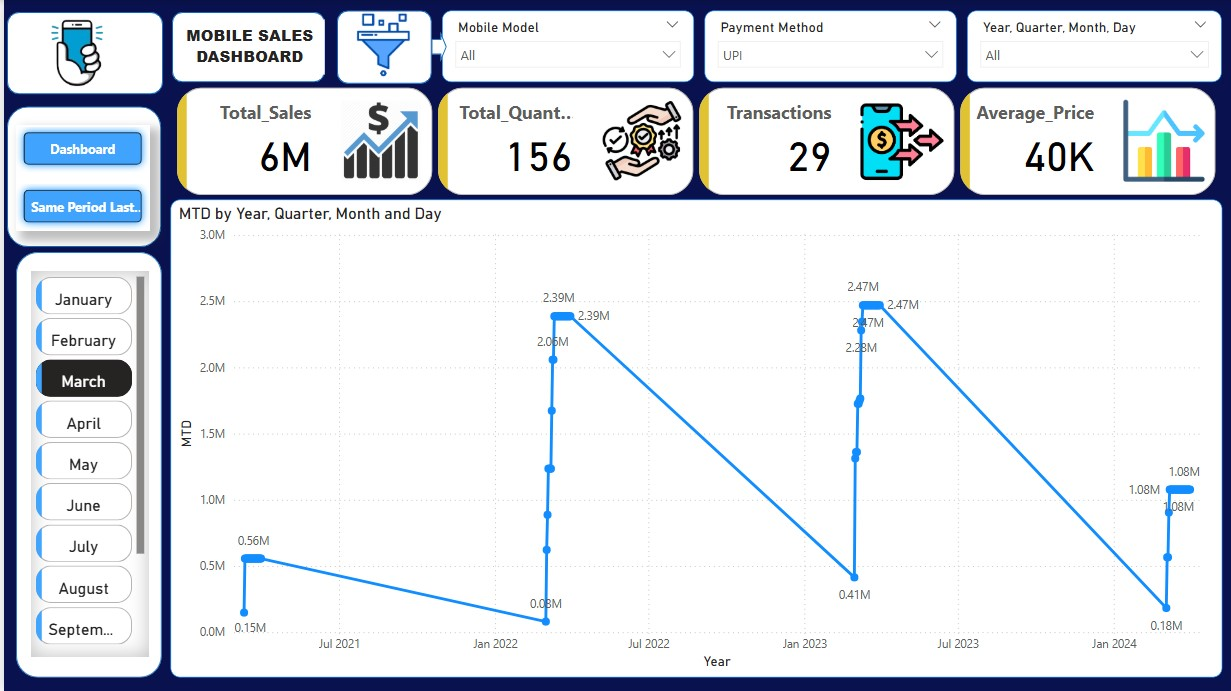

The dashboard page shown, as its layout file describes it:
{"tool":"powerbi","page":{"name":"MTD Report","canvas":[1280,720],"ordinal":1},"visuals":[{"type":"shape","box":[3.6,12.5,162.5,85.7],"z":0},{"type":"image","box":[14.3,7.1,123.2,91.1],"z":1000},{"type":"shape","box":[3.6,110.7,160.7,146.4],"z":2000},{"type":"slicer","fields":{"Values":["Mobile_Sales_Data.Mobile Model"]},"box":[456.5,11.1,262.5,74.8],"z":4000},{"type":"slicer","fields":{"Values":["Mobile_Sales_Data.Payment Method"]},"box":[730.1,11.1,262.5,74.8],"z":5000},{"type":"slicer","fields":{"Values":["Custom_Calendar.Date.Variation.Date Hierarchy.Year","Custom_Calendar.Date.Variation.Date Hierarchy.Quarter","Custom_Calendar.Date.Variation.Date Hierarchy.Month","Custom_Calendar.Date.Variation.Date Hierarchy.Day"]},"box":[1003.7,11.1,265.6,74.8],"z":6000},{"type":"shape","box":[346.8,11.1,98.6,76.3],"z":7000},{"type":"image","box":[211.6,8,369,77.9],"z":8000},{"type":"shape","box":[445.4,33.4,15.9,31.8],"z":9000},{"type":"shape","box":[175,12.7,159.1,73.2],"z":10000},{"type":"textbox","box":[178.1,20.7,155.9,57.3],"z":11000},{"type":"lineChart","fields":{"Y":["Mobile_Sales_Data.MTD"],"Category":["Custom_Calendar.Date.Variation.Date Hierarchy.Year","Custom_Calendar.Date.Variation.Date Hierarchy.Quarter","Custom_Calendar.Date.Variation.Date Hierarchy.Month","Custom_Calendar.Date.Variation.Date Hierarchy.Day"]},"box":[174.2,208.6,1095.7,498.2],"z":12000},{"type":"shape","box":[12.2,263.3,151.9,443.5],"z":13000},{"type":"advancedSlicerVisual","fields":{"Values":["Custom_Calendar.Date.Variation.Date Hierarchy.Month"]},"box":[28.4,283.5,123.5,401],"z":14000},{"type":"pageNavigator","box":[12.7,130.4,140,111.3],"z":15000},{"type":"cardVisual","fields":{"Data":["Mobile_Sales_Data.Total_Sales","Mobile_Sales_Data.Total_Quantity","Mobile_Sales_Data.Transactions","Mobile_Sales_Data.Average_Price"]},"box":[175,85.9,1094.3,122.5],"z":15001}]}

Visuals, with their boxes in screenshot pixels (x1, y1, x2, y2), scaled from the page's 1280x720 canvas onto the 1231x691 screenshot:
shape: [left=3, top=12, right=160, bottom=94]
image: [left=14, top=7, right=132, bottom=94]
shape: [left=3, top=106, right=158, bottom=247]
slicer - Mobile_Sales_Data.Mobile Model: [left=439, top=11, right=691, bottom=82]
slicer - Mobile_Sales_Data.Payment Method: [left=702, top=11, right=955, bottom=82]
slicer - Custom_Calendar.Date.Variation.Date Hierarchy.Year x Custom_Calendar.Date.Variation.Date Hierarchy.Quarter: [left=965, top=11, right=1221, bottom=82]
shape: [left=334, top=11, right=428, bottom=84]
image: [left=203, top=8, right=558, bottom=82]
shape: [left=428, top=32, right=444, bottom=63]
shape: [left=168, top=12, right=321, bottom=82]
textbox: [left=171, top=20, right=321, bottom=75]
lineChart - Mobile_Sales_Data.MTD x Custom_Calendar.Date.Variation.Date Hierarchy.Year: [left=168, top=200, right=1221, bottom=678]
shape: [left=12, top=253, right=158, bottom=678]
advancedSlicerVisual - Custom_Calendar.Date.Variation.Date Hierarchy.Month: [left=27, top=272, right=146, bottom=657]
pageNavigator: [left=12, top=125, right=147, bottom=232]
cardVisual - Mobile_Sales_Data.Total_Sales x Mobile_Sales_Data.Total_Quantity: [left=168, top=82, right=1221, bottom=200]
